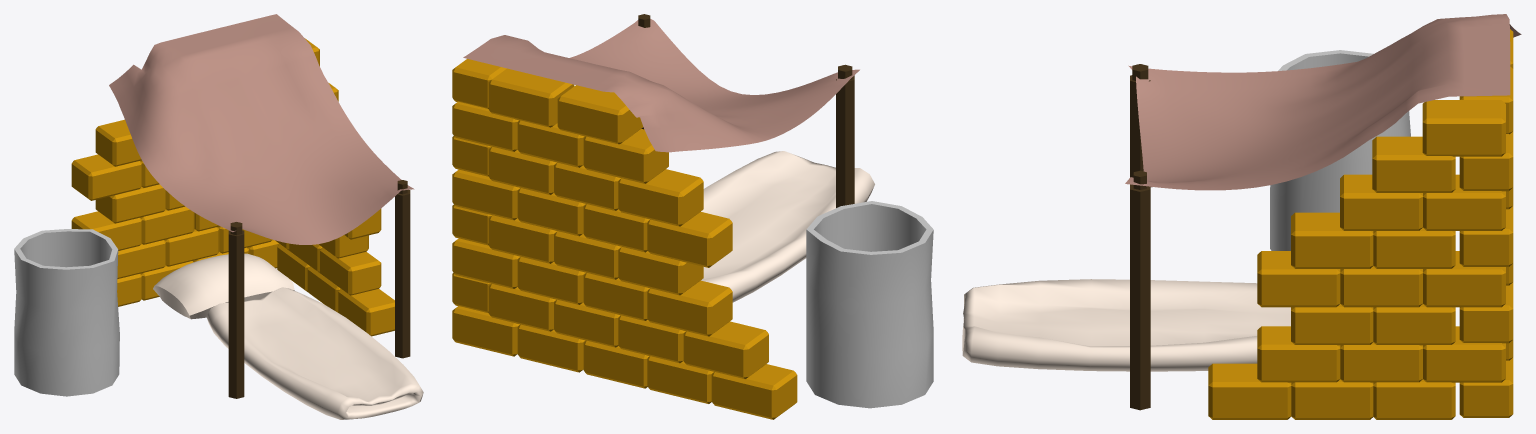
Rendered from TownRuins.fbx.
3 renders of one model, left to right at view 1: azimuth 30°, elevation 25°; view 2: azimuth 150°, elevation 25°; view 3: azimuth 270°, elevation 25°, orthographic. The views are drawn at different scales.
Visible parts, largest first — view 1: Bin; view 2: Bin; view 3: Bin.
Boxes of the visible parts, box(x1,y1,x2,y2) form: Bin: box(14, 14, 423, 419); Bin: box(452, 14, 933, 419); Bin: box(962, 14, 1521, 419).
Bounding box in the file's own units: 421 × 299 × 456.
